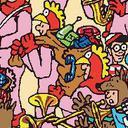waldo: (102, 29, 128, 63)
